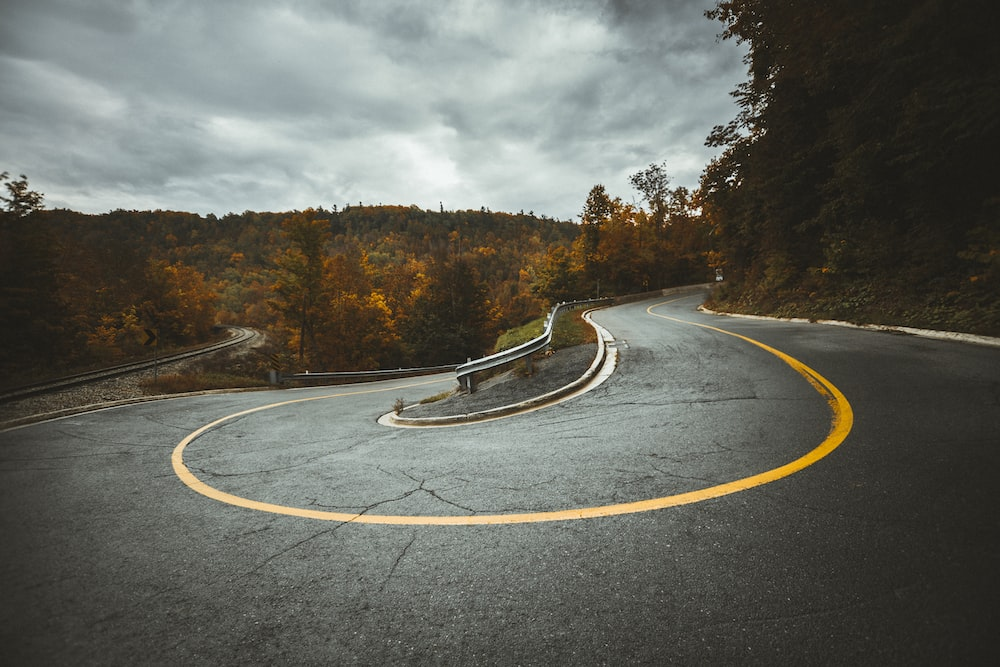leftTrun: (606, 316, 981, 528)
